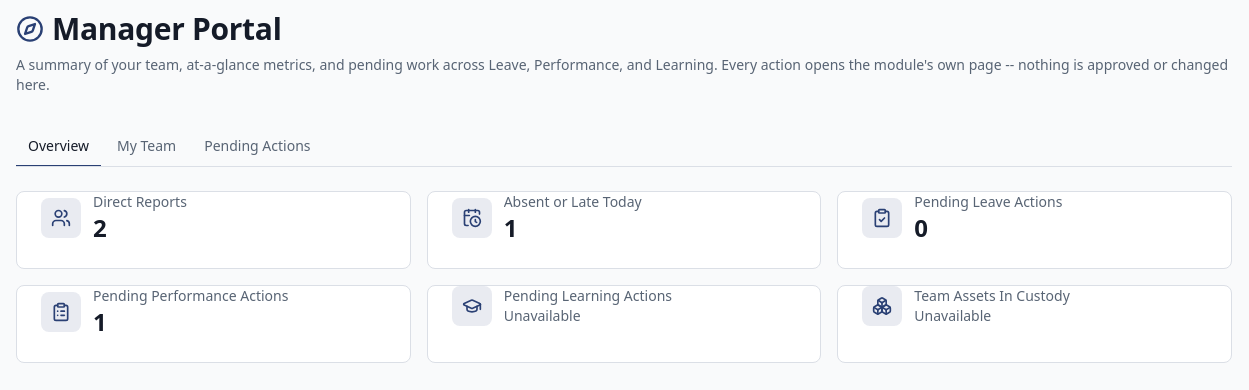
Manager Portal page › My Team › shows the not-linked state distinctly from the zero-direct-reports empty state
Step 1. Click the tab with test id "tab-manager-my-team" → (147, 147), box [105,127,188,167]
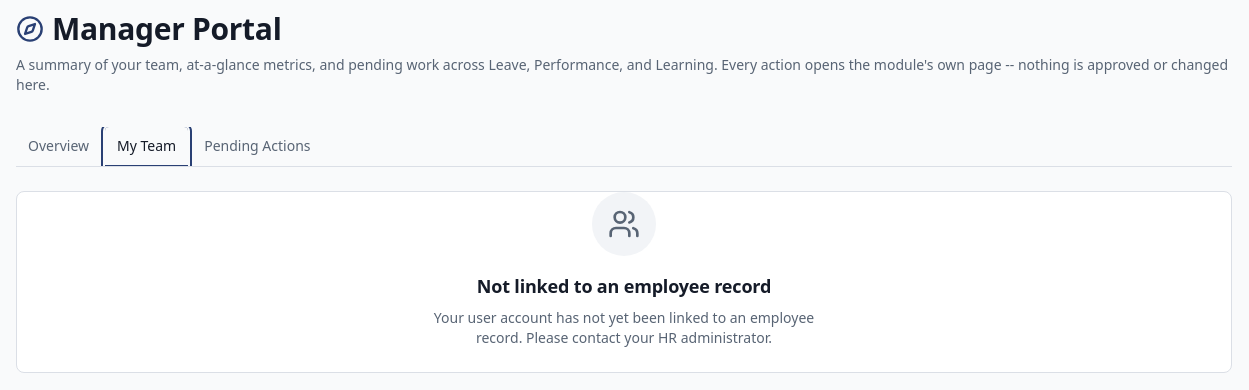
Expected: the heading "Not linked to an employee record" is shown, [477,272,771,300]
